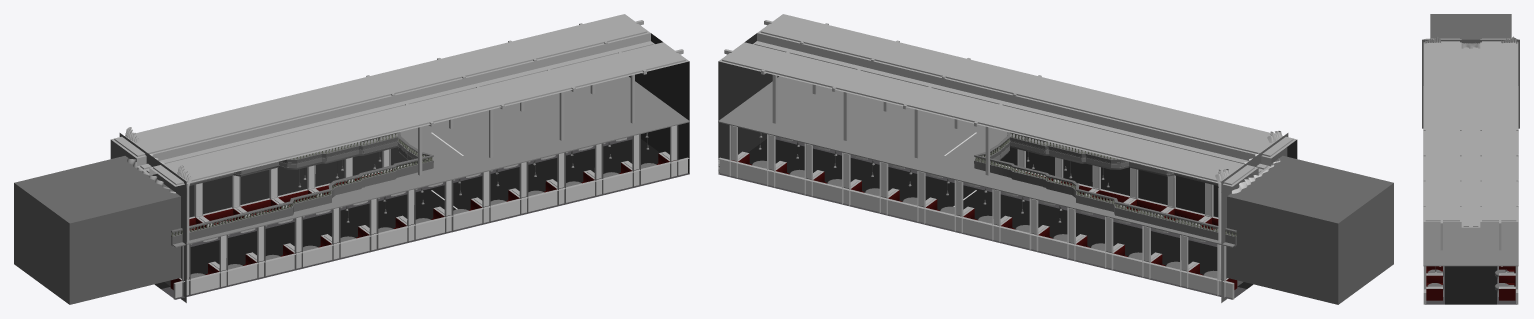
File: thecube2.fbx
3 renders of one model, left to right at view 1: azimuth 30°, elevation 25°; view 2: azimuth 150°, elevation 25°; view 3: azimuth 270°, elevation 25°, orthographic. The views are drawn at different scales.
Visible parts, largest first — view 1: Circle, Cube.001, Plane.003, Plane.004; view 2: Circle, Cube.001, Plane.005, Plane.003; view 3: Circle, Cube.001, Plane.003, Plane.005, Plane.004.
Boxes of the visible parts, x1,y1,x2,y2 form: Circle: (110, 14, 689, 299); Cube.001: (14, 133, 186, 304); Plane.003: (125, 127, 192, 279); Plane.004: (190, 163, 656, 278); Circle: (718, 14, 1297, 299); Cube.001: (1221, 133, 1393, 304); Plane.005: (752, 160, 1217, 278); Plane.003: (1215, 131, 1282, 281); Circle: (1423, 38, 1518, 304); Cube.001: (1422, 14, 1519, 128); Plane.003: (1424, 36, 1517, 48); Plane.005: (1494, 269, 1509, 292); Plane.004: (1427, 269, 1442, 286).
Size of the model in its own units: 2254 by 446 by 421.
